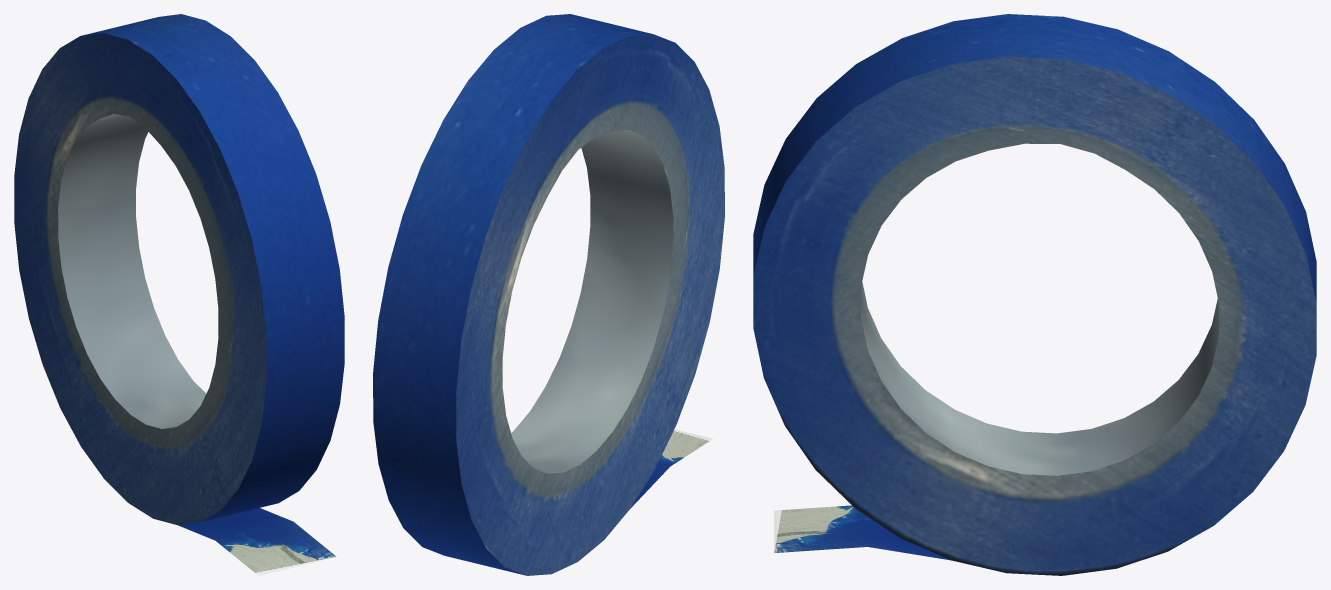
Rendered from blue_electrical_tape.glb.
3 renders of one model, left to right at view 1: azimuth 30°, elevation 25°; view 2: azimuth 150°, elevation 25°; view 3: azimuth 270°, elevation 25°, orthographic. The views are drawn at different scales.
Visible parts, largest first — view 1: Circle_4; view 2: Circle_4; view 3: Circle_4.
Boxes of the visible parts, left/top/right/bottom form: Circle_4: left=14, top=14, right=344, bottom=575; Circle_4: left=373, top=14, right=724, bottom=575; Circle_4: left=753, top=14, right=1316, bottom=575.
Size of the model in its own units: 0.3594 by 2.01 by 1.97.
3 materials, 3 textured.
